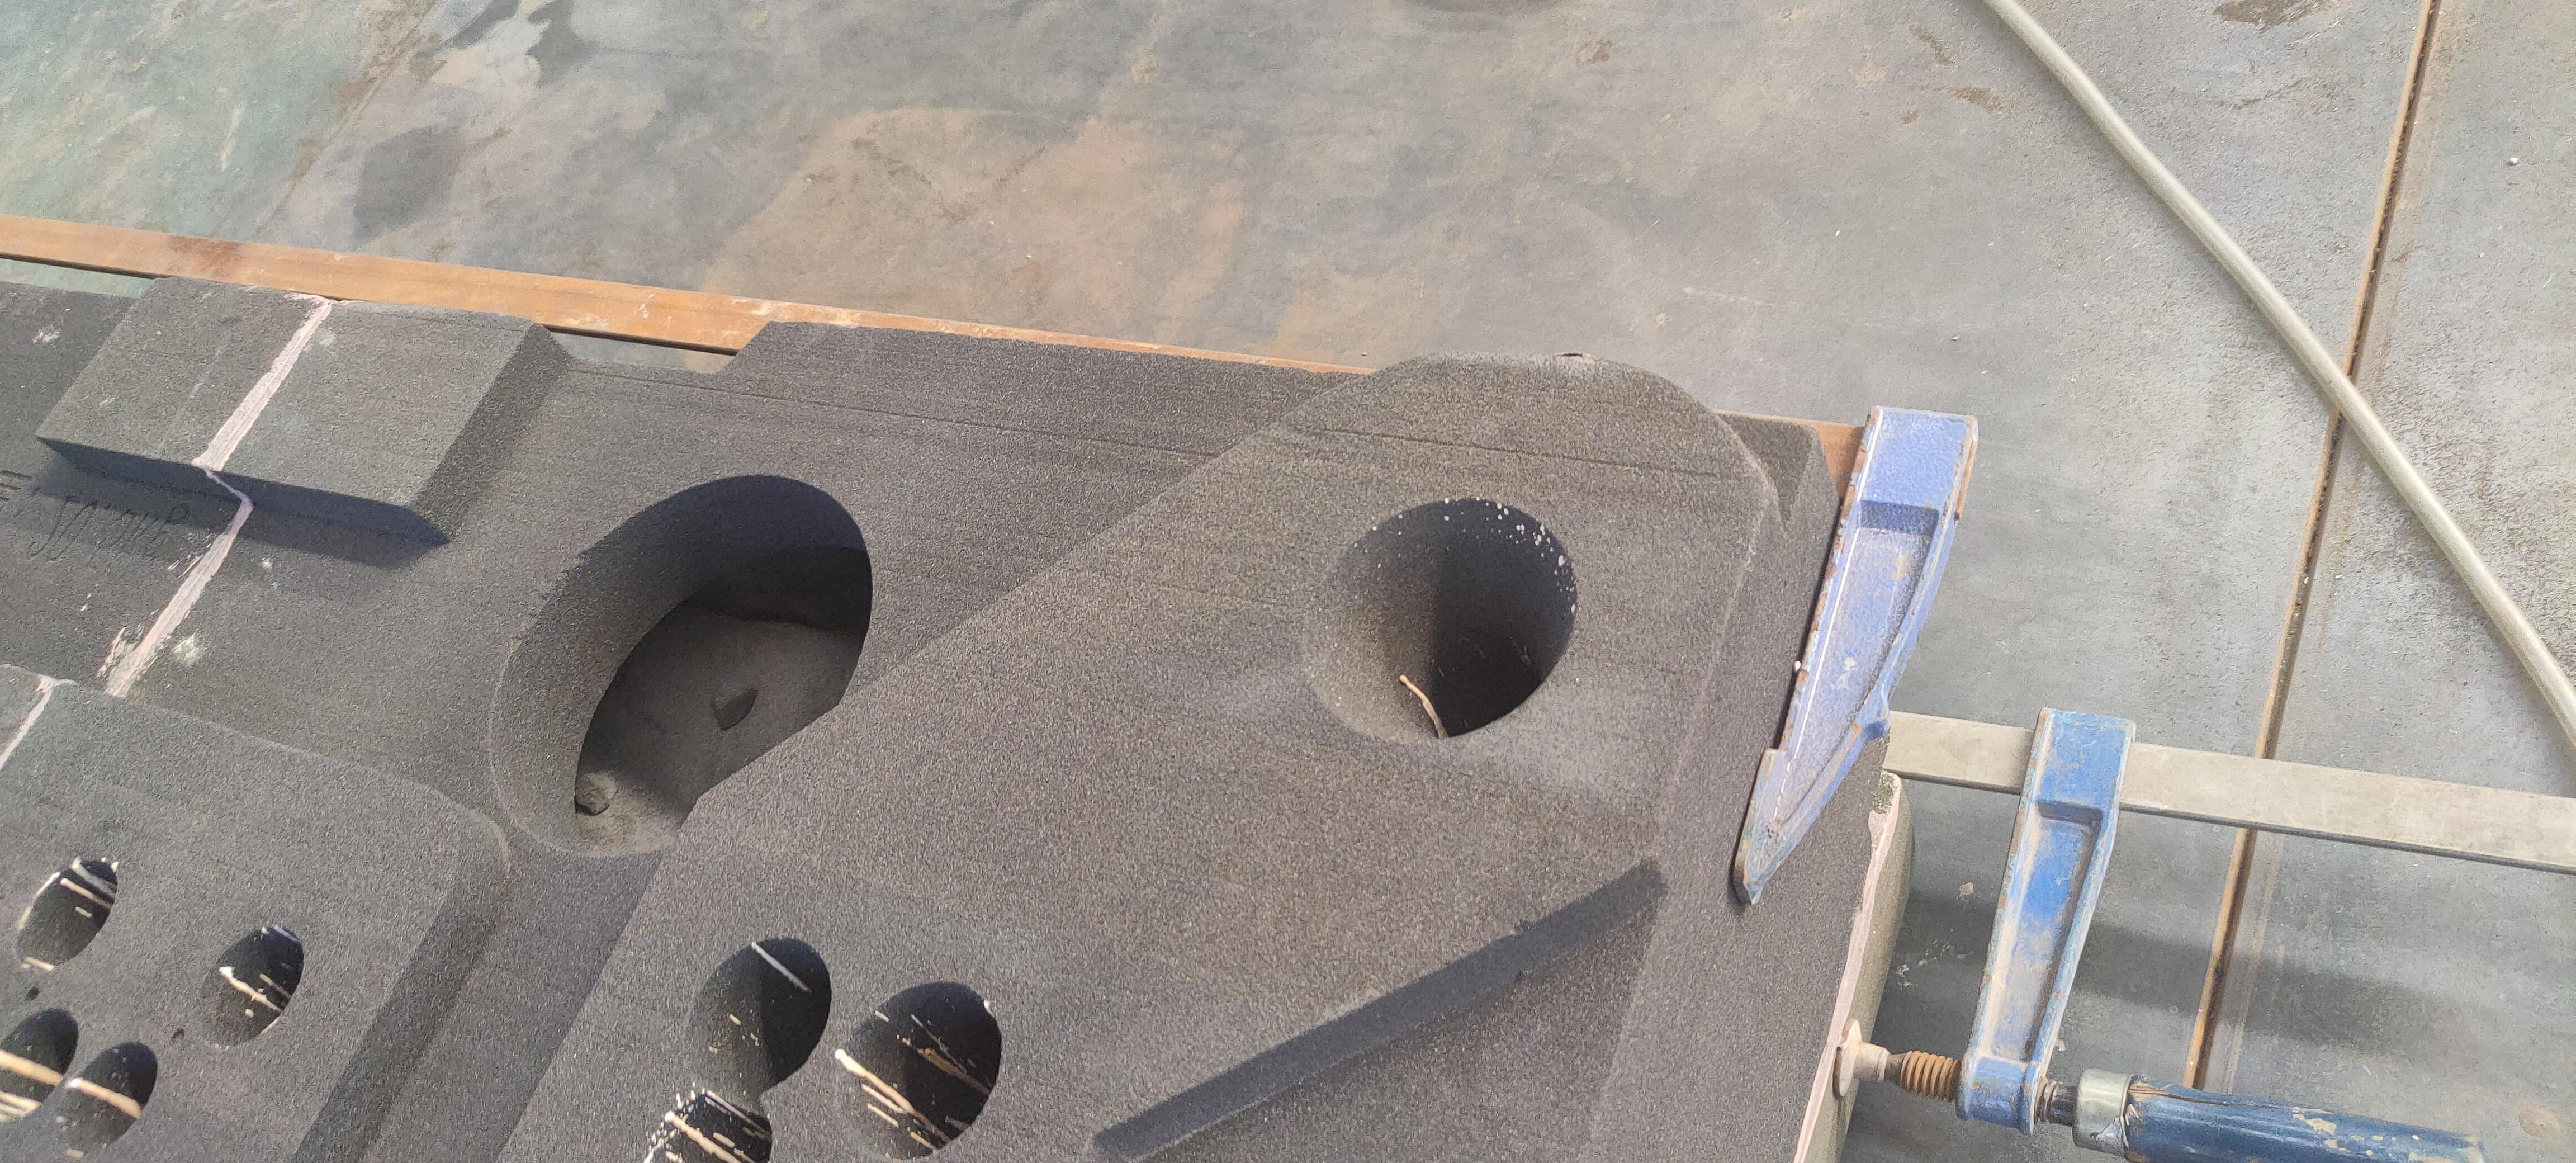pouring hole: (1300, 499, 1580, 742)
